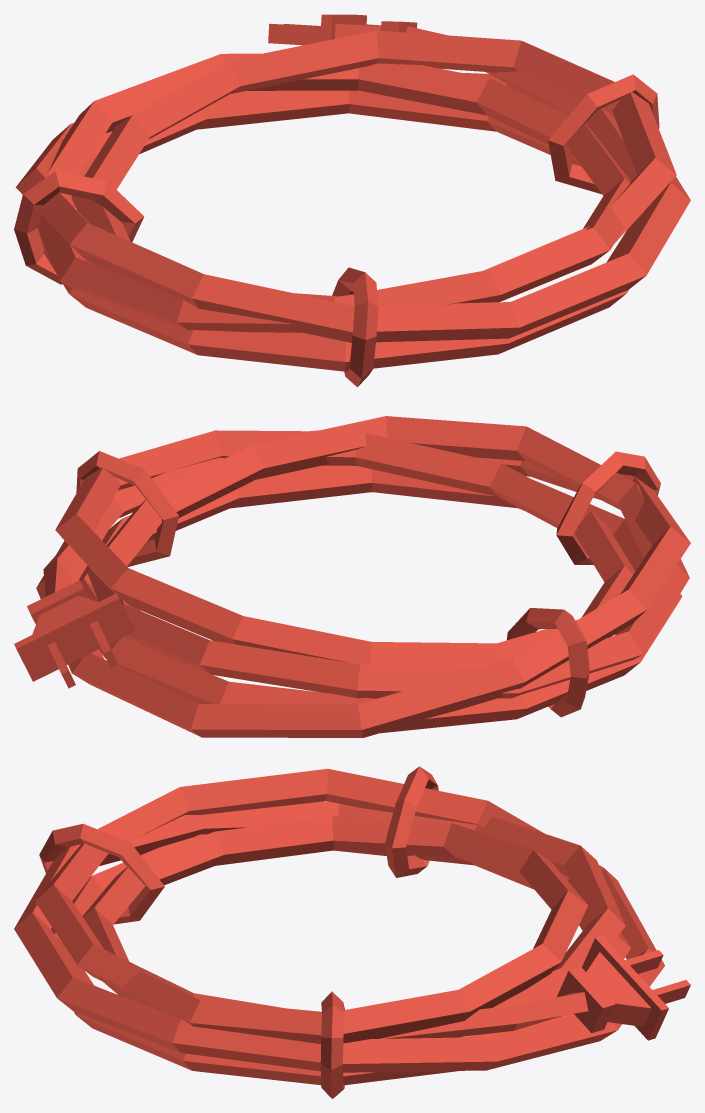
File: SM_Cable_Electric_Stranded_Big_A.fbx
3 renders of one model, top to bottom at view 1: azimuth 30°, elevation 25°; view 2: azimuth 150°, elevation 25°; view 3: azimuth 270°, elevation 25°, orthographic. The views are drawn at different scales.
Visible parts, largest first — view 1: SM_Cable_Electric_Stranded_Big_A; view 2: SM_Cable_Electric_Stranded_Big_A; view 3: SM_Cable_Electric_Stranded_Big_A.
Boxes of the visible parts, x1=… form: SM_Cable_Electric_Stranded_Big_A: x1=14, y1=14, x2=690, y2=387; SM_Cable_Electric_Stranded_Big_A: x1=14, y1=416, x2=690, y2=737; SM_Cable_Electric_Stranded_Big_A: x1=14, y1=766, x2=690, y2=1098.
Size of the model in its own units: 36.5 by 34.3 by 6.42.
